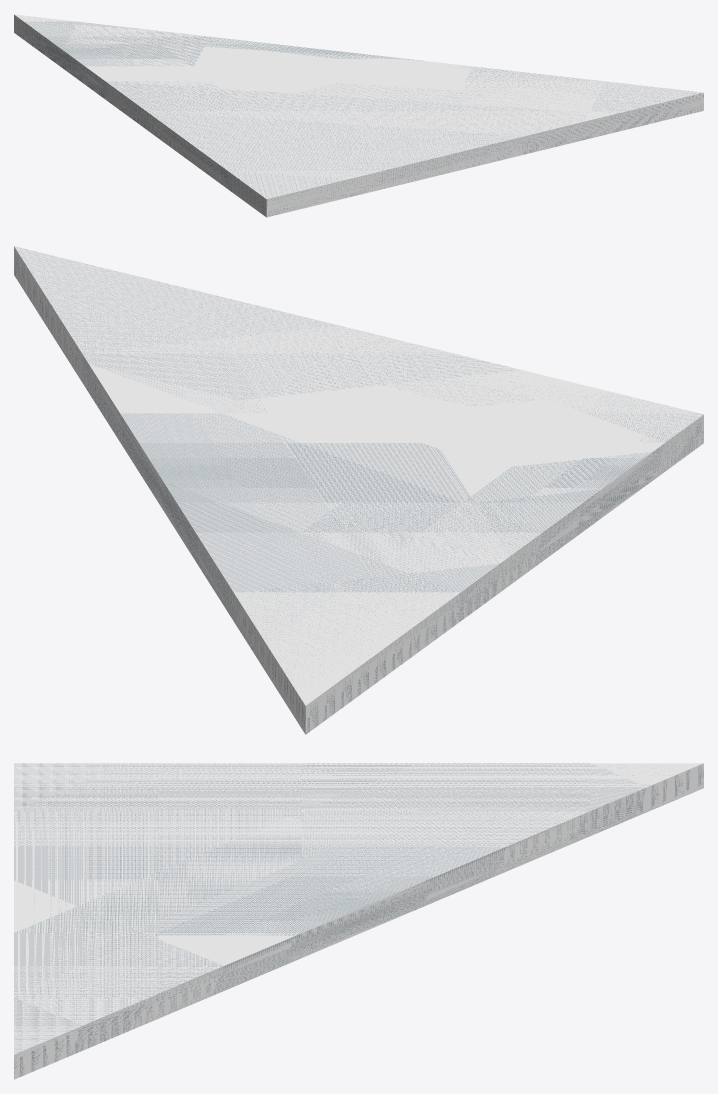
Rendered from triangle 90 deg.fbx.
3 views of the same model, one above another, from view 1: azimuth 30°, elevation 25°; view 2: azimuth 150°, elevation 25°; view 3: azimuth 270°, elevation 25° (orthographic). The views are drawn at different scales.
Parts seen in each view (by area): view 1: Model; view 2: Model; view 3: Model.
Boxes of the visible parts, x1,y1,x2,y2 form: Model: (14,14,703,217); Model: (14,246,703,734); Model: (14,763,703,1079).
Size of the model in its own units: 5 by 0.2 by 5.
